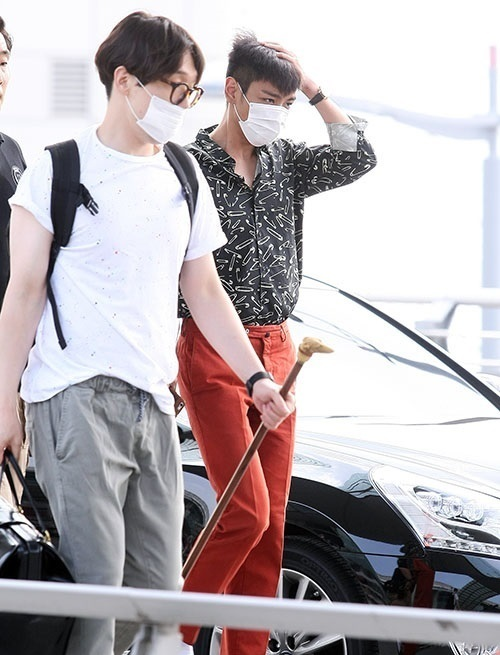face: (1, 39, 14, 118)
face_mask: (131, 52, 196, 144), (240, 71, 293, 146)
